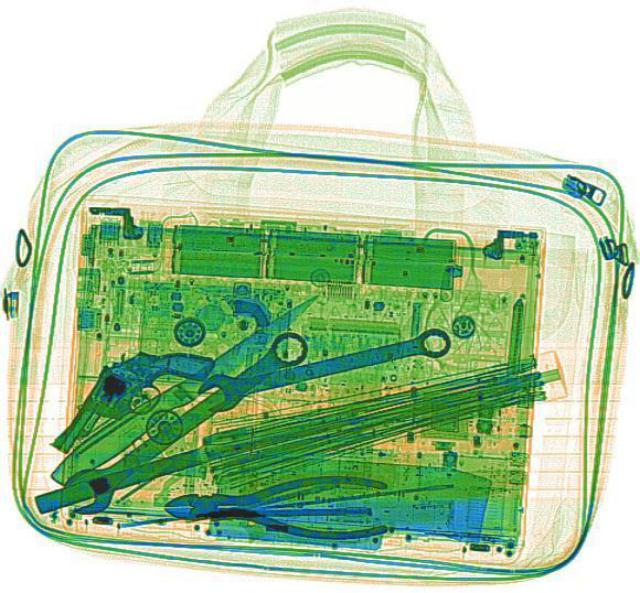Gun: (46, 318, 216, 487)
Knife: (29, 348, 468, 518), (33, 272, 335, 501)
Pliers: (166, 473, 387, 537)
Wrench: (45, 319, 323, 525), (192, 318, 452, 414)
